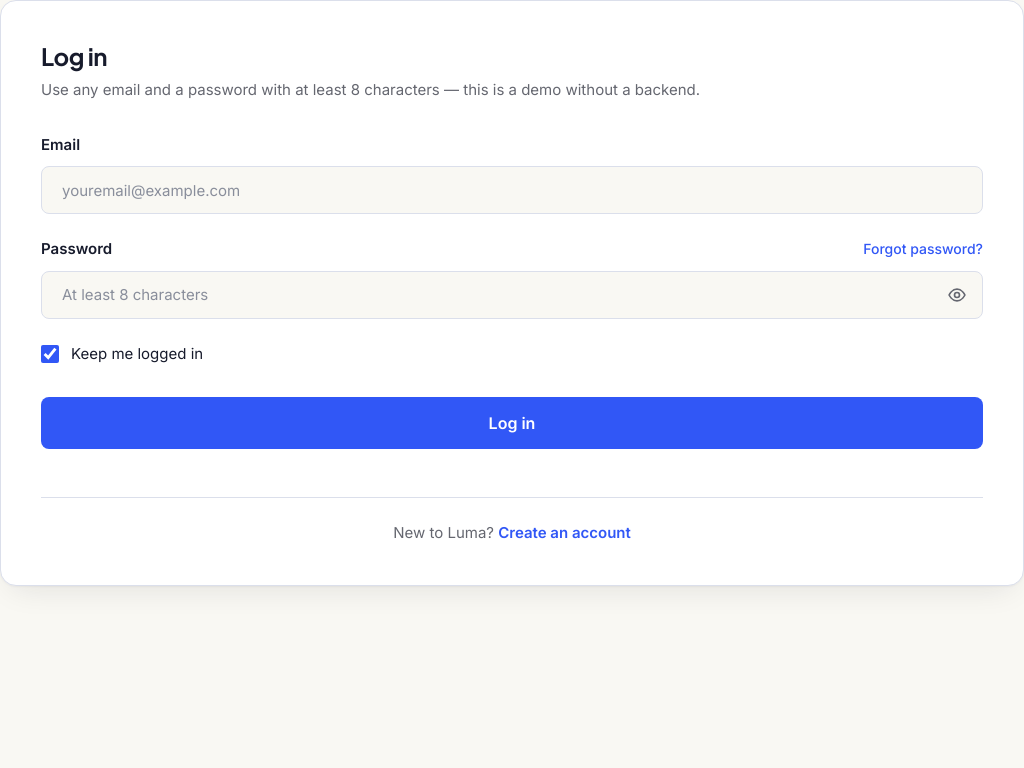
Test: LoginForm › stores a session and redirects after a valid submit
Type "user@example.com" into the field labelled "Email".
click(512, 190); type("user@example.com")  # box 41,166 -> 983,214
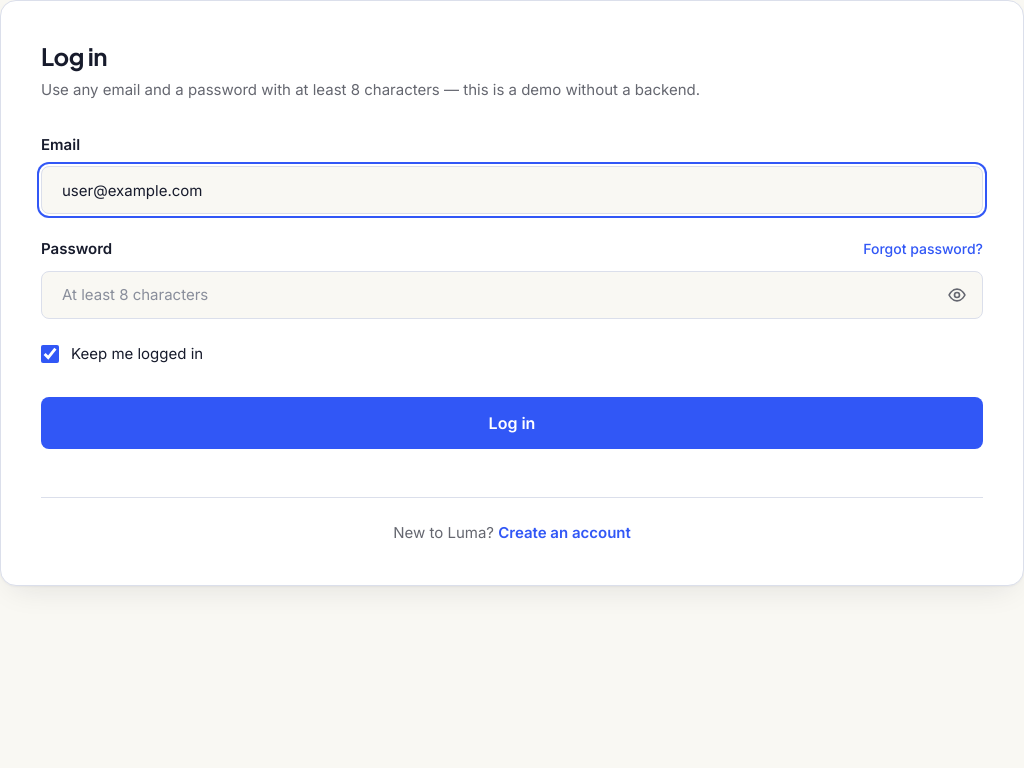
Type "supersecret" into the password field labelled "Password".
click(512, 294); type("supersecret")  # box 41,270 -> 983,318
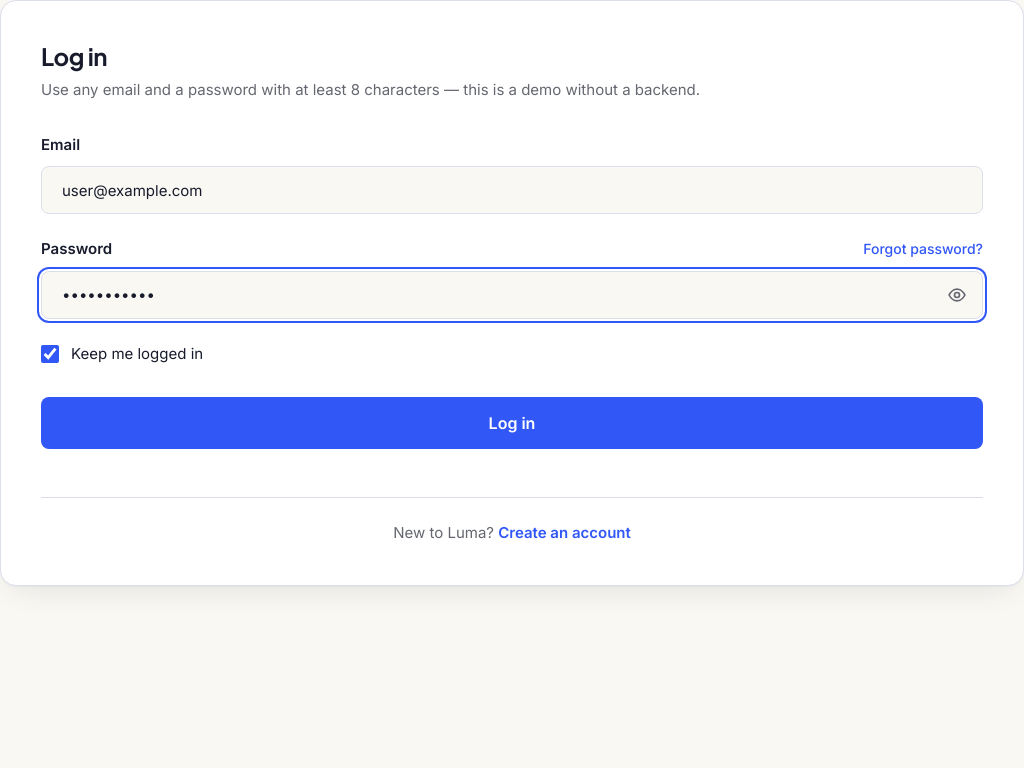
Click the button "Log in".
click(512, 423)  # box 41,397 -> 983,449
Wait 2000 ms
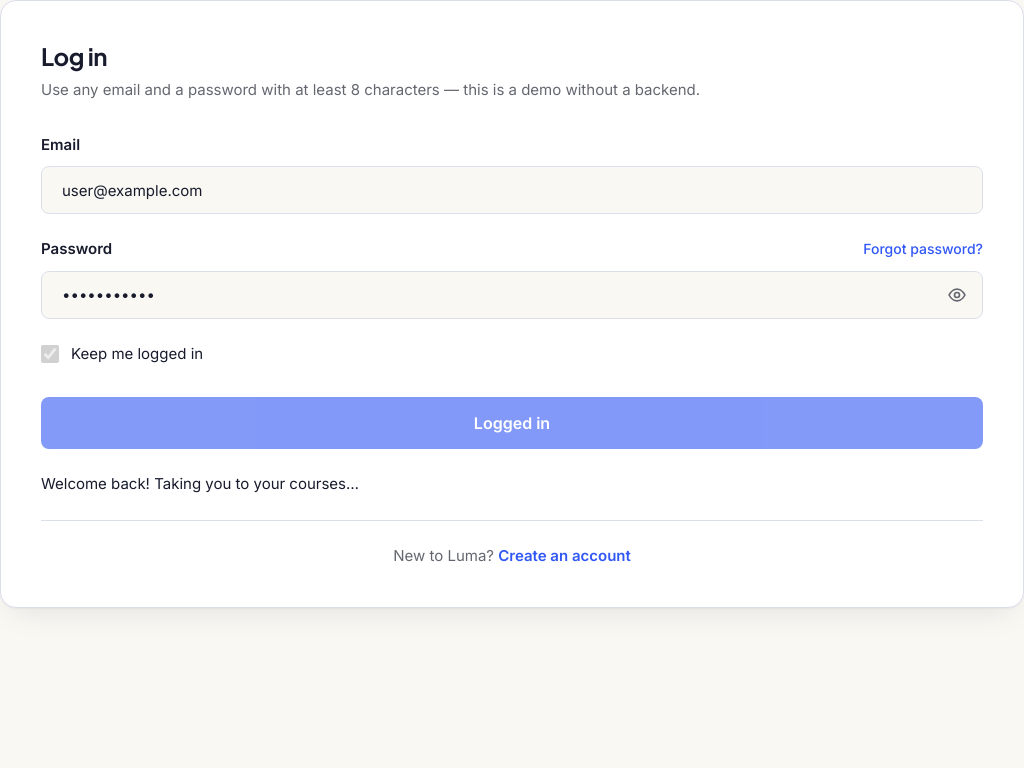
Expected: the text "Welcome back! Taking you to your courses…" is shown, 41,474 -> 359,493
